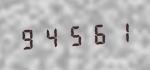five: (64, 20, 86, 49)
four: (41, 22, 63, 50)
nine: (18, 23, 40, 52)
one: (110, 17, 132, 45)
six: (87, 19, 109, 47)
